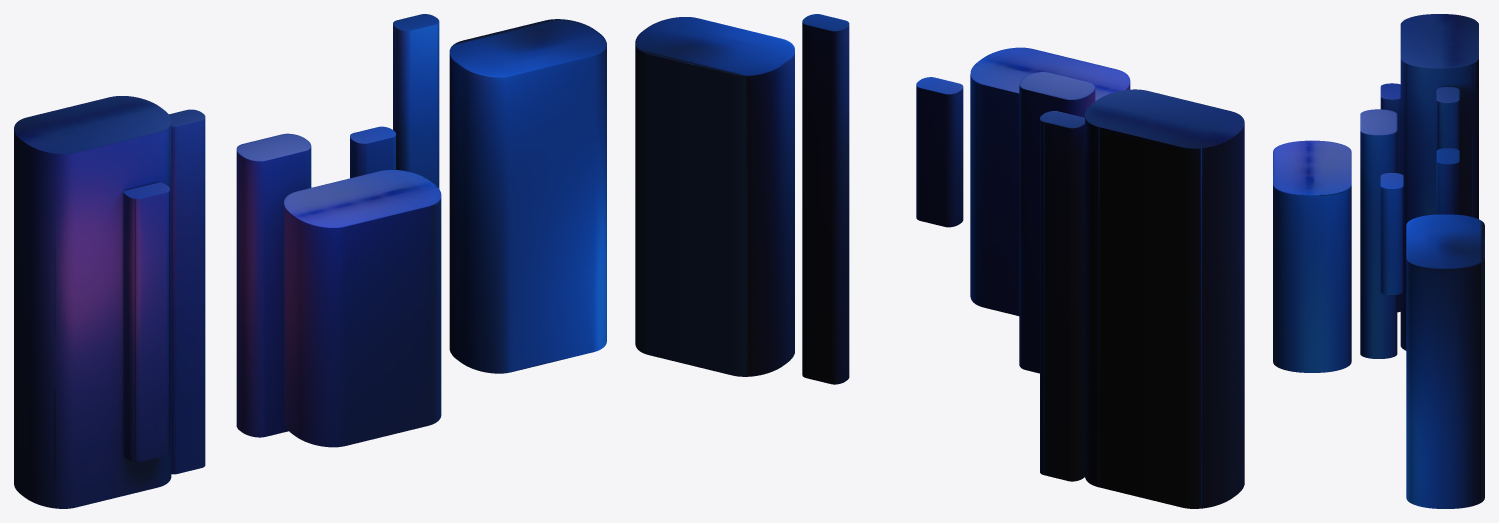
File: partners_base.glb
The picture shows the model from 3 angles, left to right: view 1: azimuth 30°, elevation 25°; view 2: azimuth 150°, elevation 25°; view 3: azimuth 270°, elevation 25°; orthographic projection. The views are drawn at different scales.
Parts seen in each view (by area): view 1: Cube.045, Cube.046, Cube.044, Cube.048, Cube.032, Cube.031, Cube.049, Cube.047; view 2: Cube.046, Cube.045, Cube.049, Cube.031, Cube.044, Cube.048, Cube.047; view 3: Cube.045, Cube.044, Cube.046, Cube.048, Cube.047, Cube.049, Cube.031, Cube.032.
Boxes of the visible parts, x1,y1,x2,y2 form: Cube.045: (449,19,606,373); Cube.046: (14,96,171,508); Cube.044: (284,169,441,447); Cube.048: (236,133,311,437); Cube.032: (123,182,169,461); Cube.031: (169,109,205,474); Cube.049: (393,14,439,188); Cube.047: (350,126,395,178); Cube.046: (1085,89,1244,508); Cube.045: (635,17,794,376); Cube.049: (802,14,849,384); Cube.031: (1040,111,1084,481); Cube.044: (970,47,1130,315); Cube.048: (1019,72,1095,373); Cube.047: (916,77,963,227); Cube.045: (1406,214,1484,508); Cube.044: (1273,140,1351,372); Cube.046: (1400,14,1478,350); Cube.048: (1360,109,1397,358); Cube.047: (1380,173,1403,294); Cube.049: (1436,148,1459,214); Cube.031: (1436,87,1459,150); Cube.032: (1380,83,1400,312).
Size of the model in its own units: 1.92 by 1.23 by 0.7538.
Materials: 1 (1 with a texture image).
